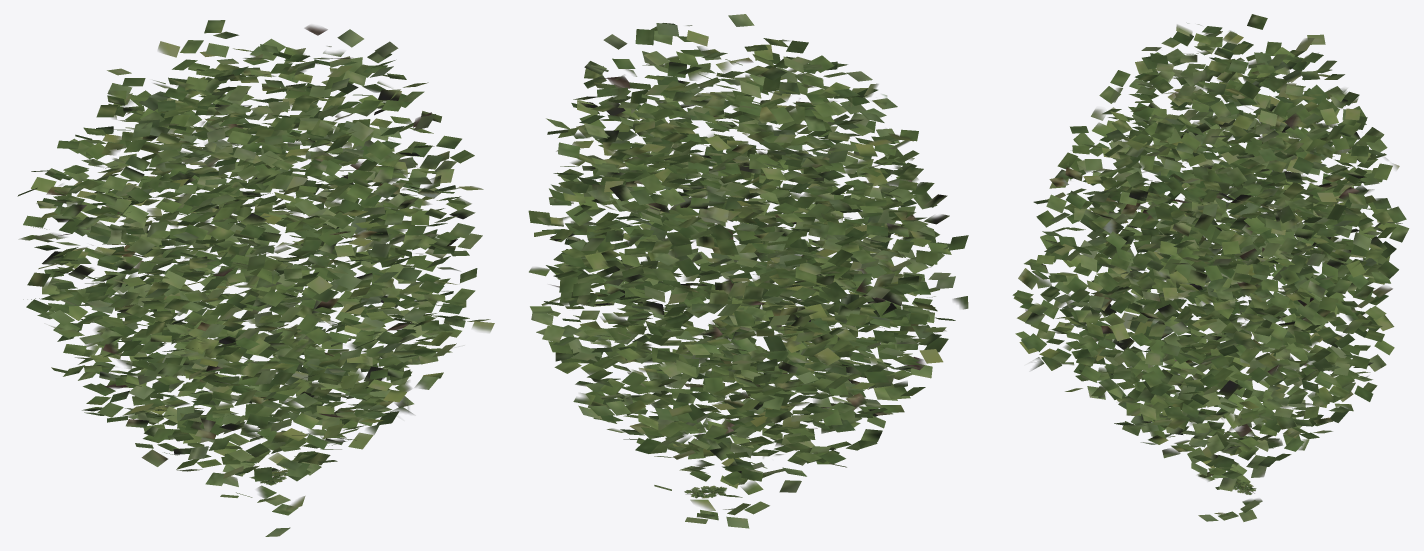
Rendered from oak.glb.
3 views of the same model, side by side, from view 1: azimuth 30°, elevation 25°; view 2: azimuth 150°, elevation 25°; view 3: azimuth 270°, elevation 25° (orthographic). The views are drawn at different scales.
Parts seen in each view (by area): view 1: Cube.001; view 2: Cube.001; view 3: Cube.001.
Part boxes in pixels (<box>): Cube.001: <box>17,20,494,536</box>; Cube.001: <box>528,14,968,528</box>; Cube.001: <box>1012,14,1409,521</box>.
Bounding box in the file's own units: 13.74 × 14.47 × 11.55.
Materials: 1 (1 with a texture image).
